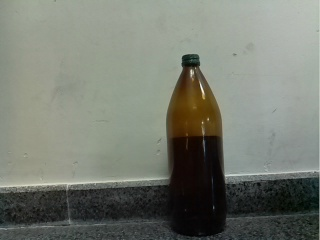pote cristal: (166, 54, 226, 234)
